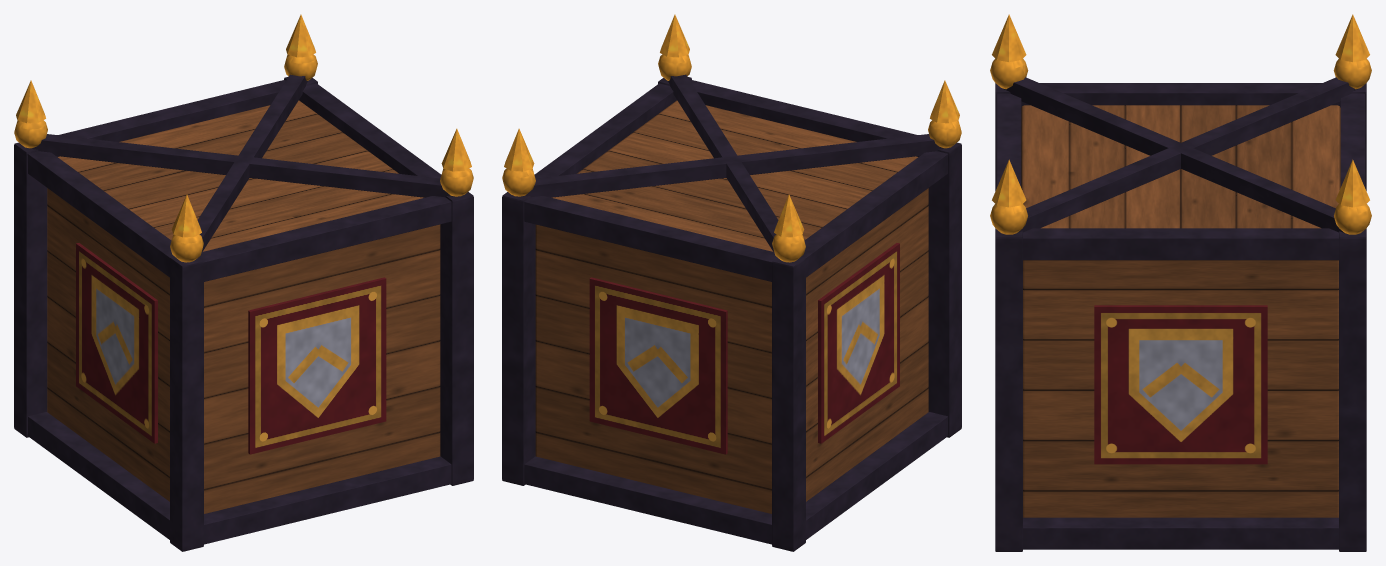
Rendered from CHO_Crate.fbx.
3 views of the same model, side by side, from view 1: azimuth 30°, elevation 25°; view 2: azimuth 150°, elevation 25°; view 3: azimuth 270°, elevation 25° (orthographic). The views are drawn at different scales.
Visible parts, largest first — view 1: CHO_Crate; view 2: CHO_Crate; view 3: CHO_Crate.
Boxes of the visible parts, x1,y1,x2,y2 form: CHO_Crate: (14,14,473,551); CHO_Crate: (502,14,961,551); CHO_Crate: (990,14,1371,551).
Size of the model in its own units: 1.09 by 1.23 by 1.1.
